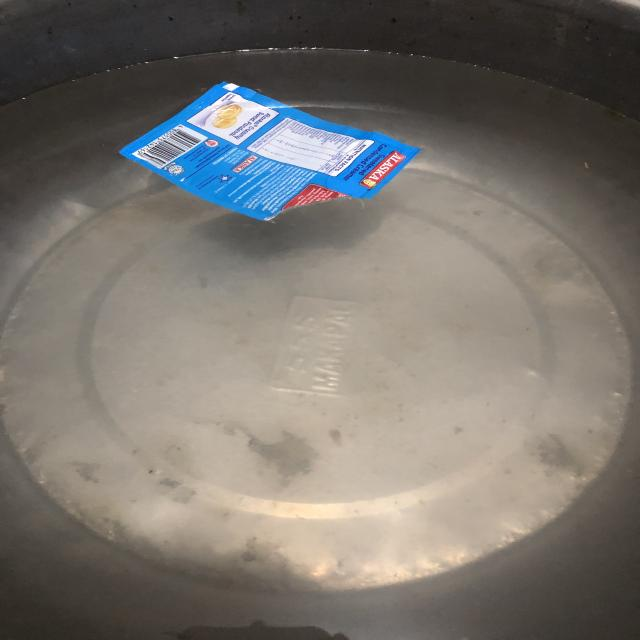Plastic Wrapper: (125, 75, 418, 232)
